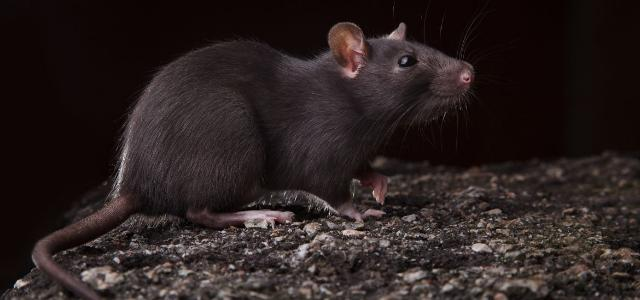rat: (62, 17, 484, 255)
